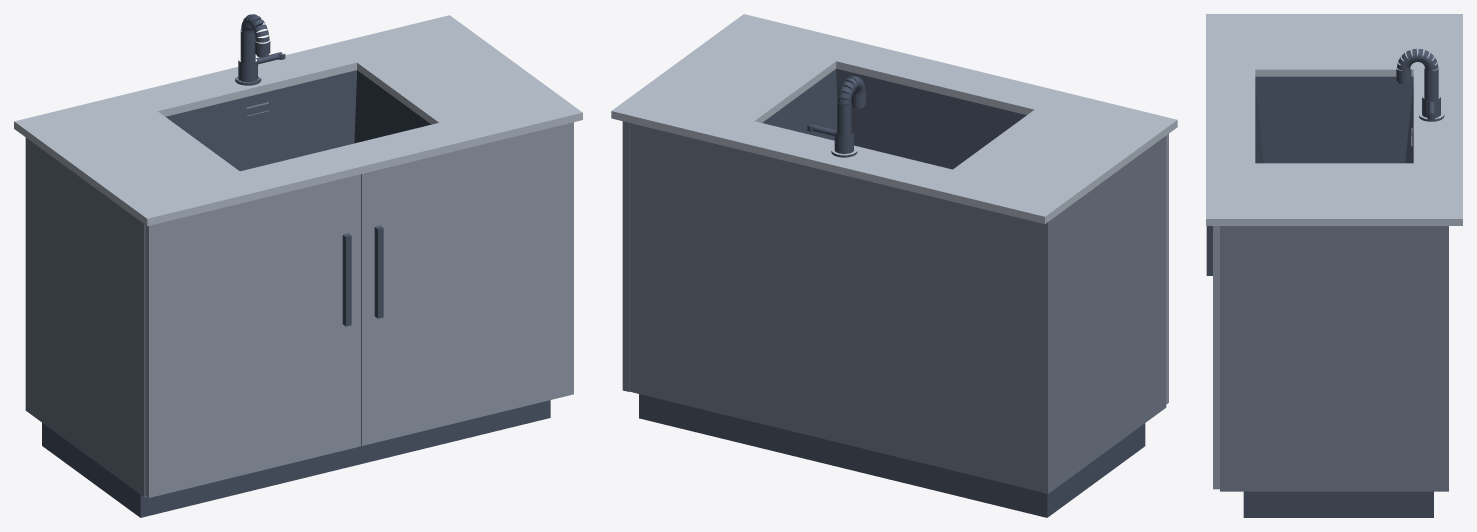
The model's file is 地柜带水盆.glb.
The picture shows the model from 3 angles, left to right: view 1: azimuth 30°, elevation 25°; view 2: azimuth 150°, elevation 25°; view 3: azimuth 270°, elevation 25°; orthographic projection. The views are drawn at different scales.
Parts seen in each view (by area): view 1: kitchensink-door, kitchensink-top, kitchensink-body, kitchensink-sink, kitchensink-base, kitchensink-metal, kitchensink-metal-2; view 2: kitchensink-body, kitchensink-top, kitchensink-sink, kitchensink-base, kitchensink-metal, kitchensink-door; view 3: kitchensink-body, kitchensink-top, kitchensink-sink, kitchensink-base, kitchensink-door, kitchensink-metal, kitchensink-metal-2.
Boxes of the visible parts, box(x1,y1,x2,y2) form: kitchensink-door: box(145, 122, 573, 497); kitchensink-top: box(14, 15, 582, 226); kitchensink-body: box(25, 137, 146, 497); kitchensink-sink: box(165, 70, 430, 171); kitchensink-base: box(42, 400, 550, 517); kitchensink-metal: box(235, 14, 285, 85); kitchensink-metal-2: box(342, 225, 383, 326); kitchensink-body: box(622, 121, 1166, 493); kitchensink-top: box(611, 14, 1177, 223); kitchensink-sink: box(762, 68, 1026, 169); kitchensink-base: box(639, 394, 1145, 517); kitchensink-metal: box(807, 76, 866, 157); kitchensink-door: box(1166, 134, 1168, 404); kitchensink-body: box(1220, 226, 1448, 491); kitchensink-top: box(1206, 14, 1462, 225); kitchensink-sink: box(1255, 76, 1413, 163); kitchensink-base: box(1243, 491, 1433, 517); kitchensink-door: box(1213, 226, 1219, 489); kitchensink-metal: box(1396, 48, 1444, 121); kitchensink-metal-2: box(1206, 226, 1212, 275).
Size of the model in its own units: 1.22 by 1.04 by 0.648.
